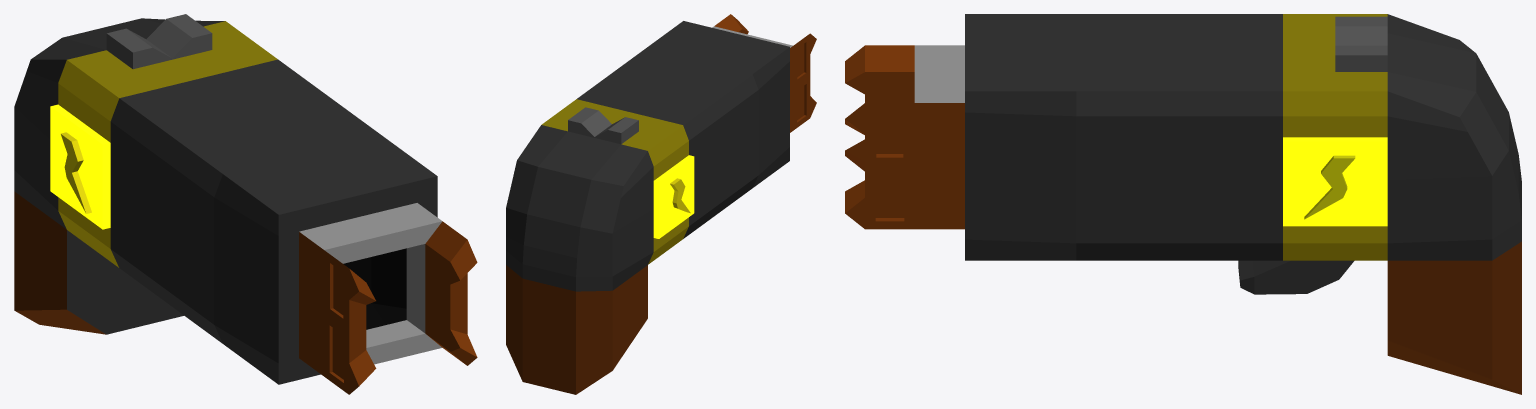
File: stung.fbx
The picture shows the model from 3 angles, left to right: view 1: azimuth 30°, elevation 25°; view 2: azimuth 150°, elevation 25°; view 3: azimuth 270°, elevation 25°; orthographic projection. The views are drawn at different scales.
Visible parts, largest first — view 1: Cube.003; view 2: Cube.003; view 3: Cube.003.
Boxes of the visible parts, x1=… form: Cube.003: x1=14, y1=14, x2=477, y2=394; Cube.003: x1=506, y1=14, x2=816, y2=394; Cube.003: x1=845, y1=14, x2=1521, y2=394.
Bounding box in the file's own units: 102 × 164 × 296.
